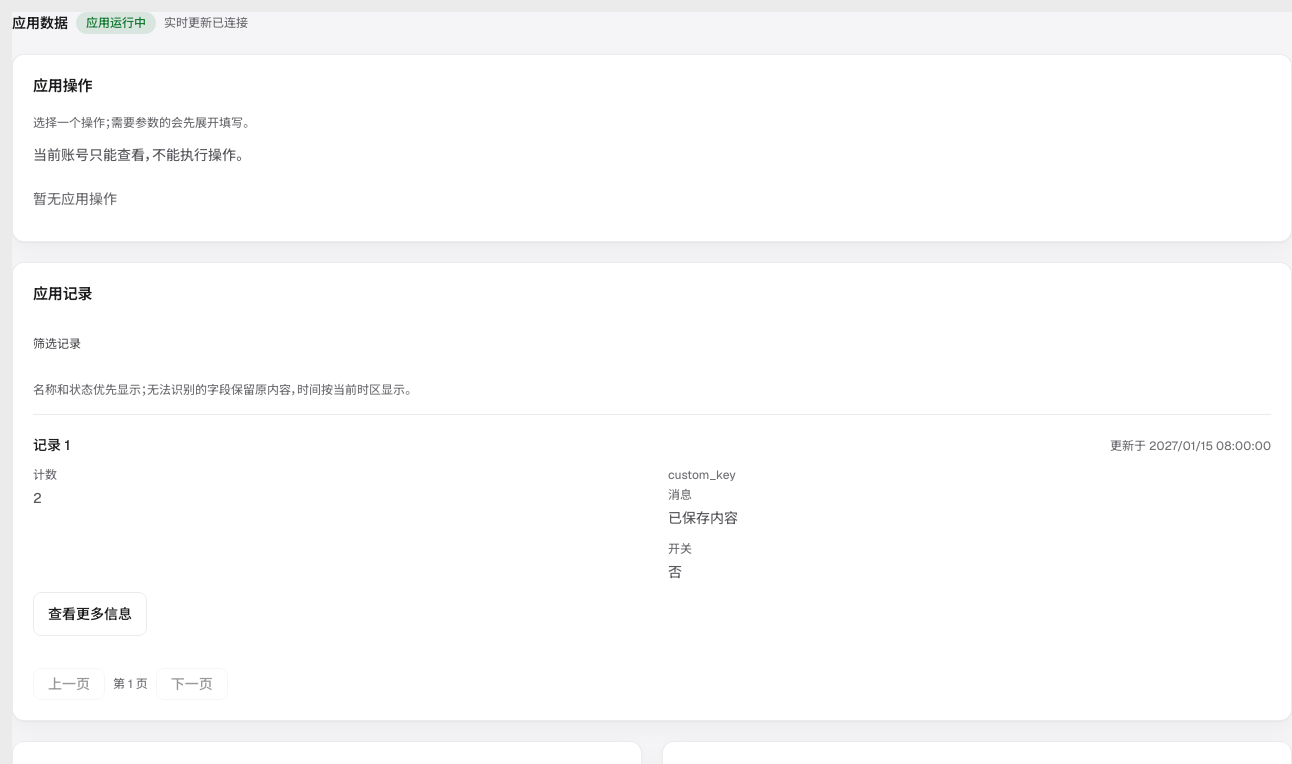
Test: 应用数据读取和通用展示 › 服务端拒绝分类筛选后仍可清除筛选，不被错误状态锁住
The width and height of the screenshot is (1292, 764).
expect the text "已保存内容" is shown: met, box [668,508,738,526]
Click the heading "筛选记录".
click(57, 344)  # box [33,336,81,352]
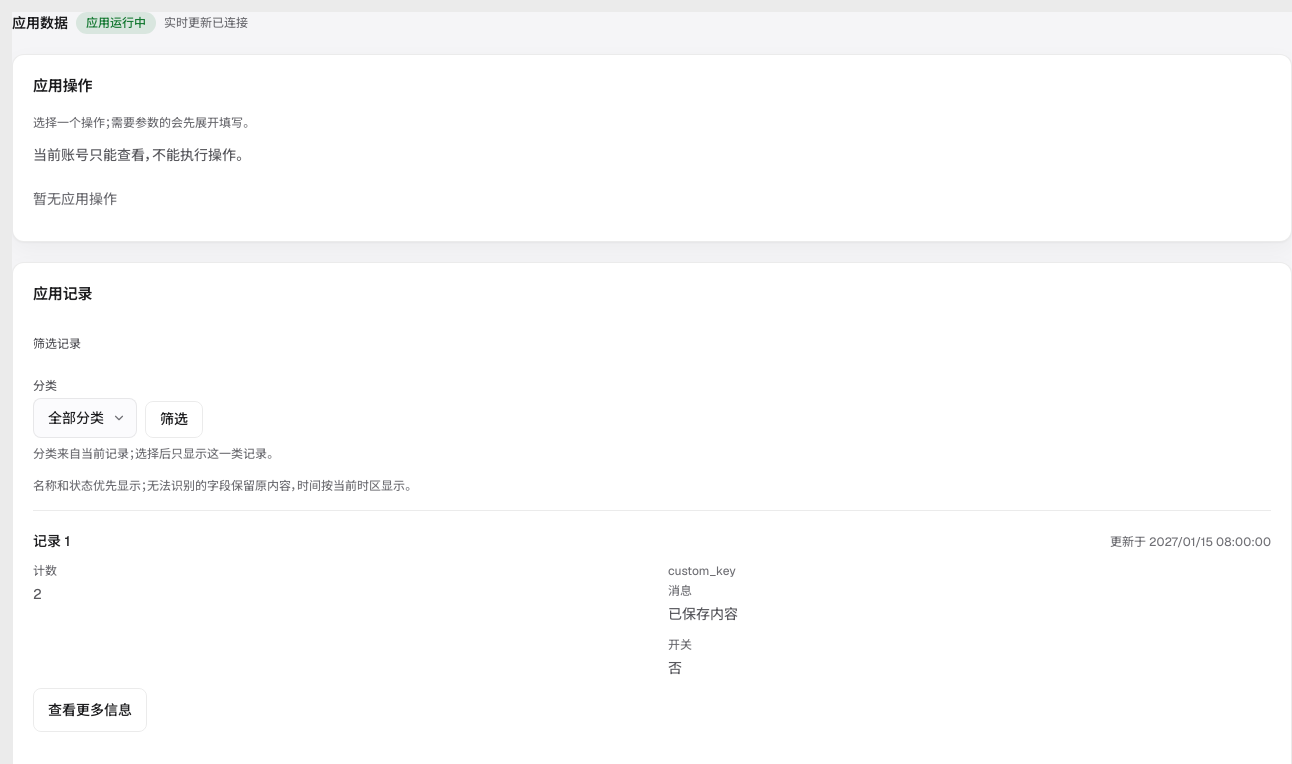
Select "sample" in the dropdown labelled "分类" at (85, 408), box [33,378,137,438]
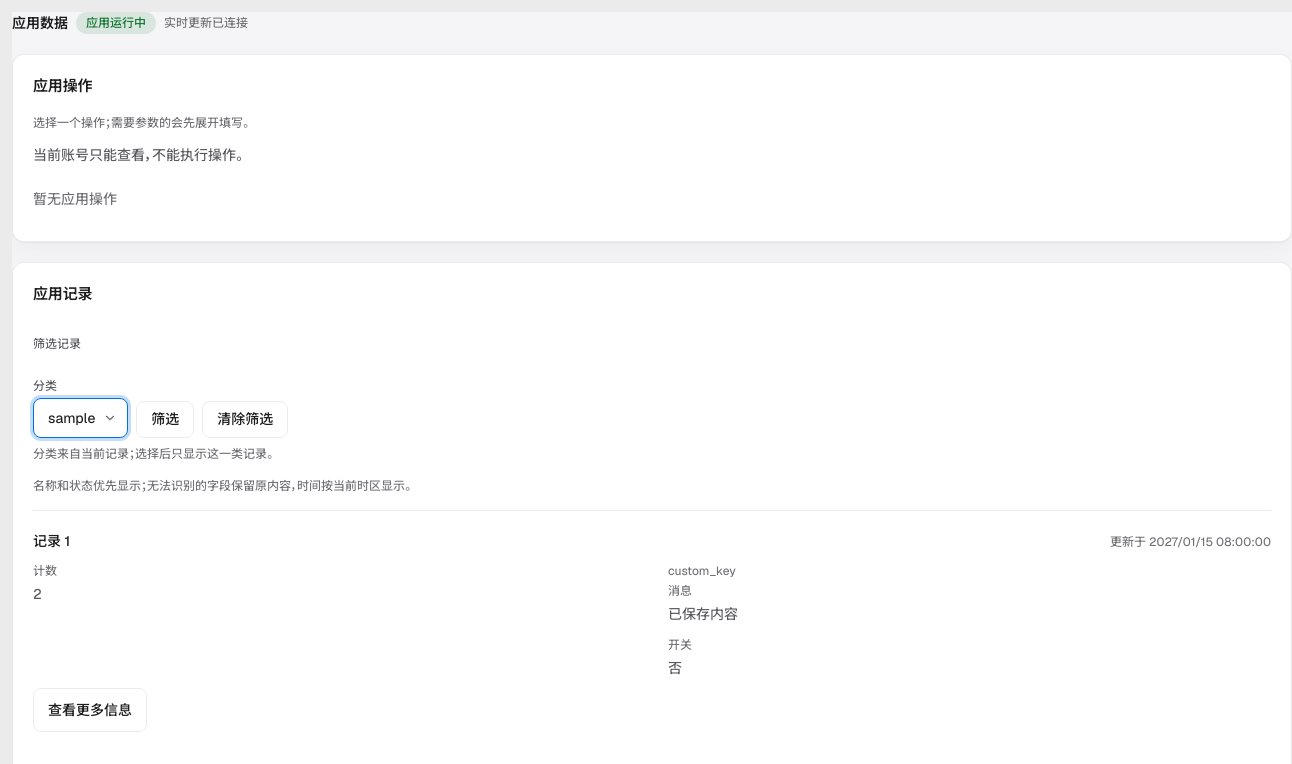
Click the button "筛选".
click(165, 419)  # box [136,400,194,438]
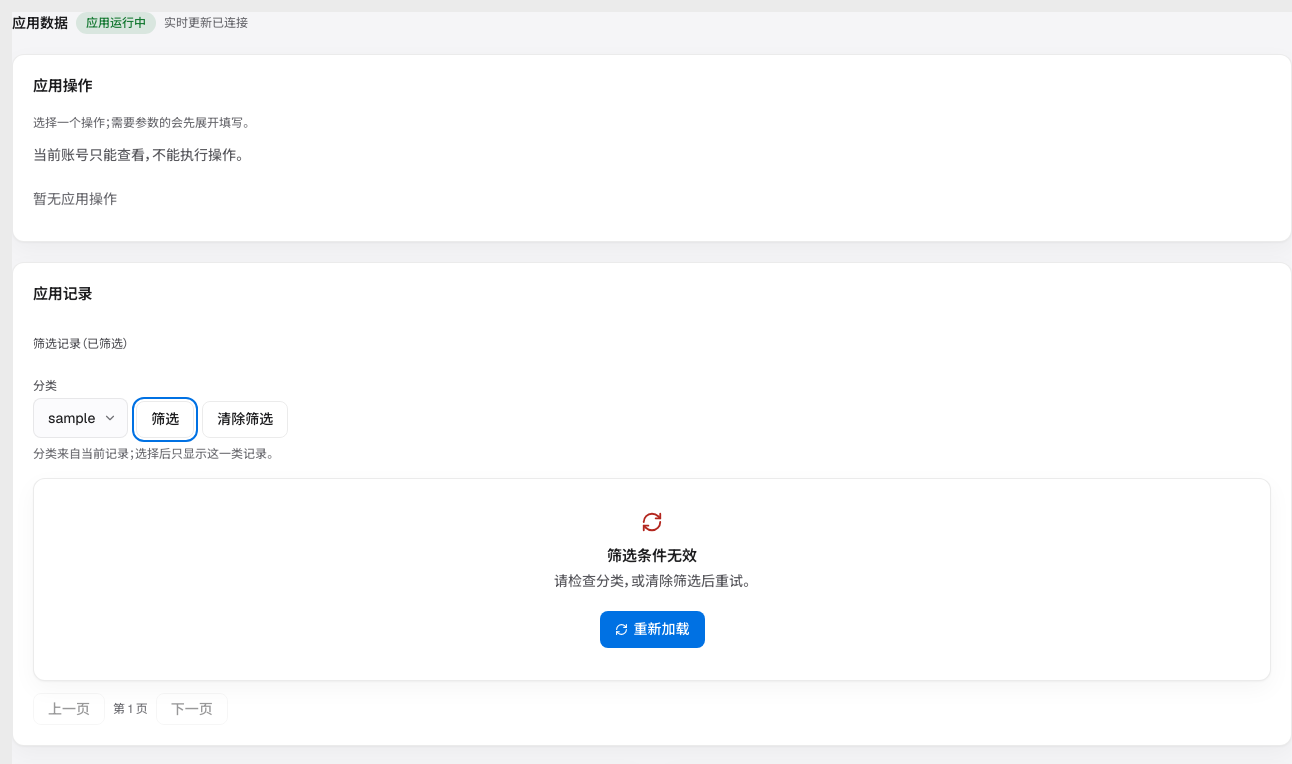
expect the text "筛选条件无效" is shown: met, box [607,544,697,567]
Click the button "清除筛选".
click(245, 419)  # box [202,400,288,438]
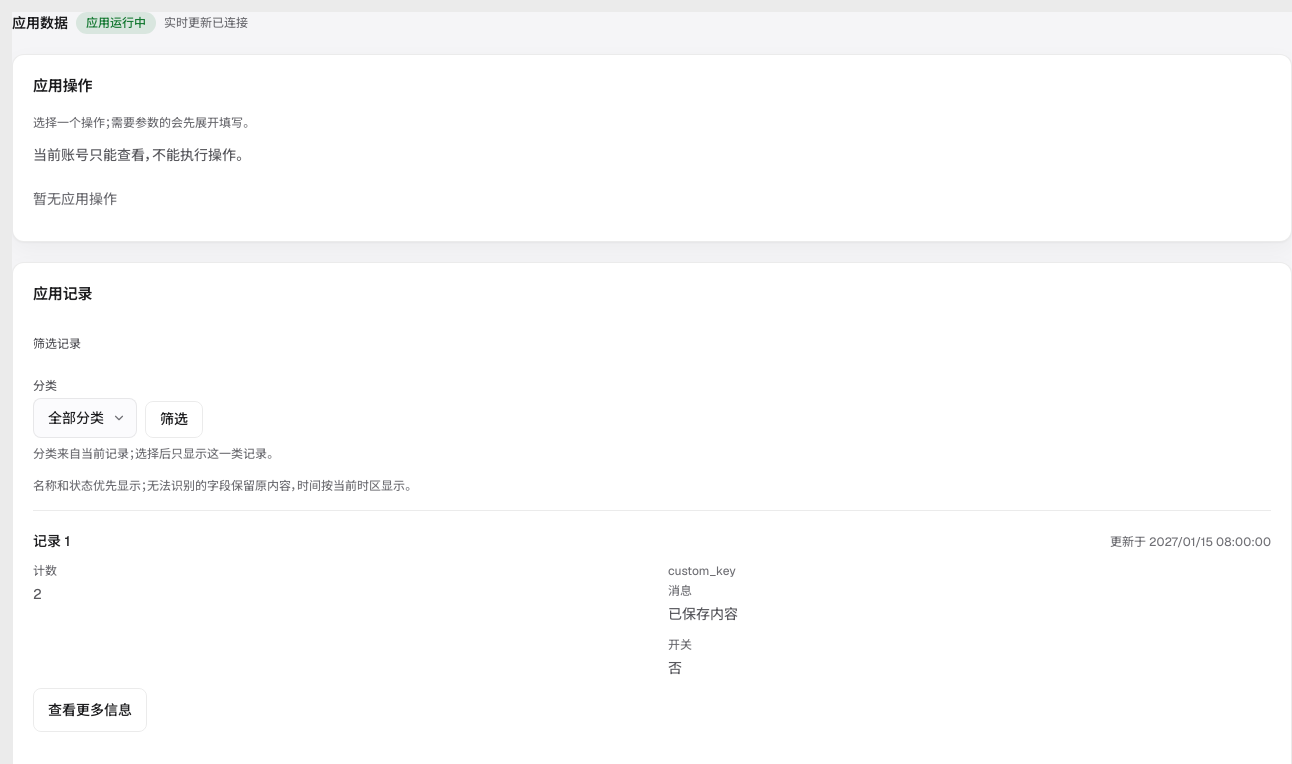
expect the text "已保存内容" is shown: met, box [668,604,738,622]
